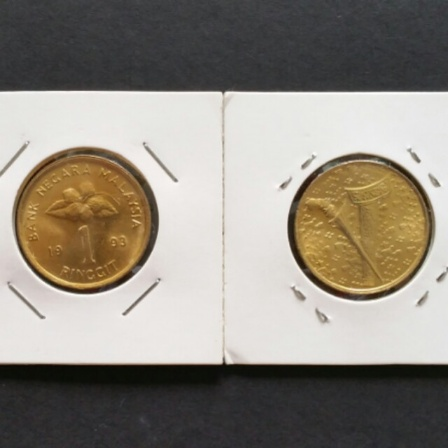1r: (14, 153, 155, 291), (293, 158, 430, 295)
